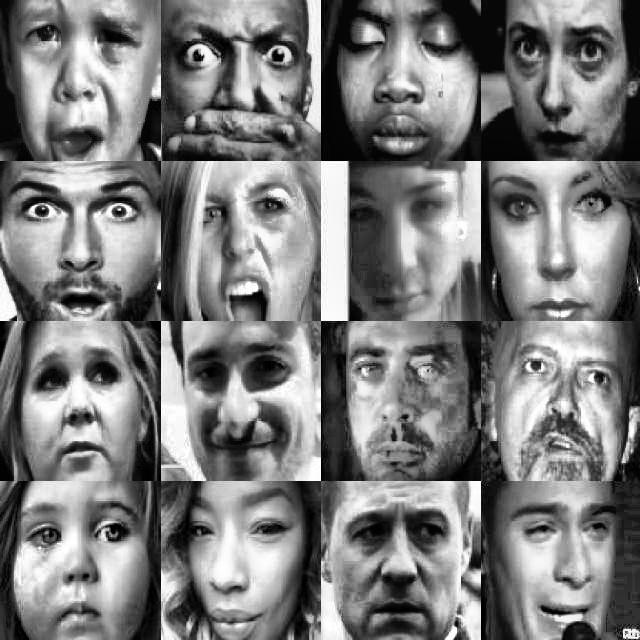angry: (183, 175, 309, 319), (349, 175, 457, 313)
fear: (8, 170, 156, 319), (169, 0, 307, 154), (498, 0, 621, 155), (30, 339, 133, 476)
happy: (181, 330, 305, 476)
neutral: (489, 162, 626, 316), (175, 480, 306, 640), (503, 330, 629, 481)
sad: (12, 4, 149, 158), (338, 0, 470, 155), (18, 493, 141, 639), (338, 491, 454, 640), (505, 492, 621, 640), (341, 333, 459, 477)
